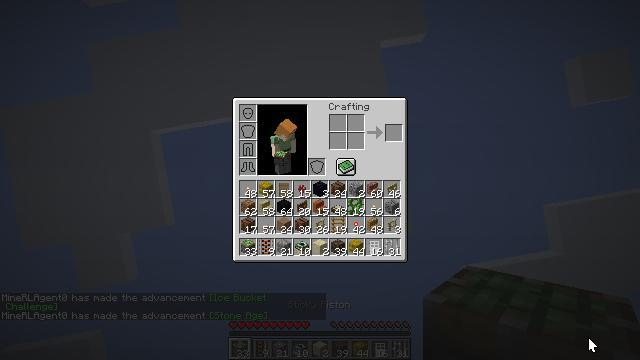cursor: (588, 337, 598, 353)
